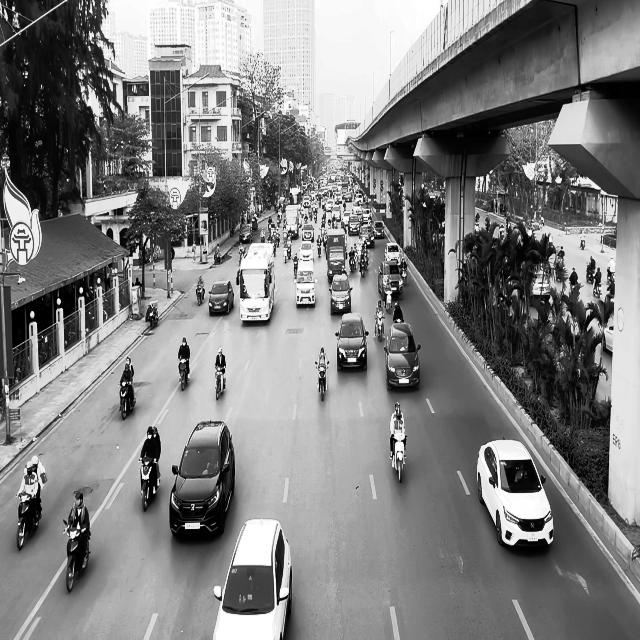bus: (237, 242, 275, 324)
car: (213, 518, 292, 640), (476, 438, 554, 548), (169, 419, 235, 537), (384, 322, 421, 390), (335, 312, 369, 371), (328, 272, 352, 315), (294, 262, 316, 308), (208, 279, 234, 315)
motorbike: (62, 518, 91, 592), (16, 490, 42, 551), (138, 456, 160, 512), (389, 432, 406, 482), (118, 378, 136, 419), (315, 361, 329, 400), (214, 366, 226, 400), (178, 358, 189, 390), (146, 302, 158, 328), (374, 313, 384, 342), (592, 278, 602, 297), (196, 286, 204, 305)
